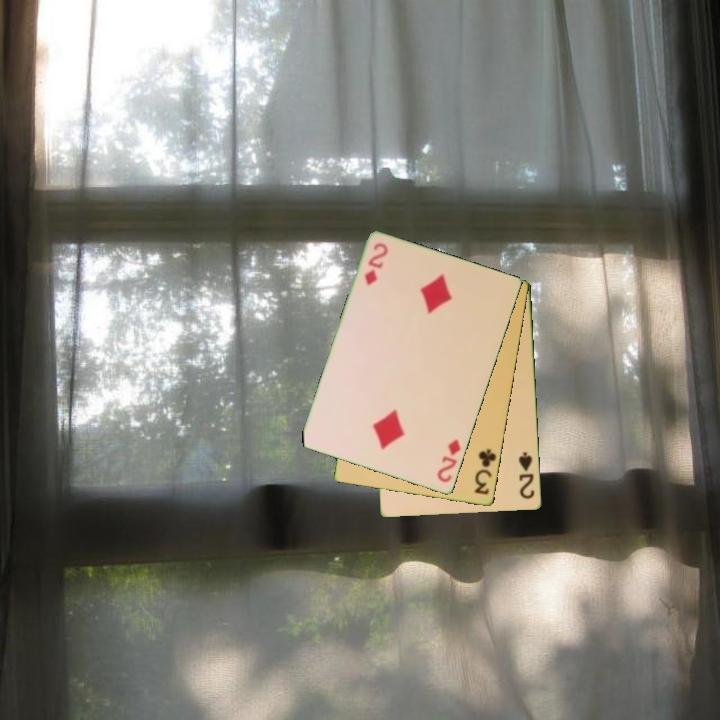2d: (434, 436, 464, 486), (361, 239, 391, 288)
2s: (515, 449, 538, 502)
3c: (471, 446, 499, 498)
